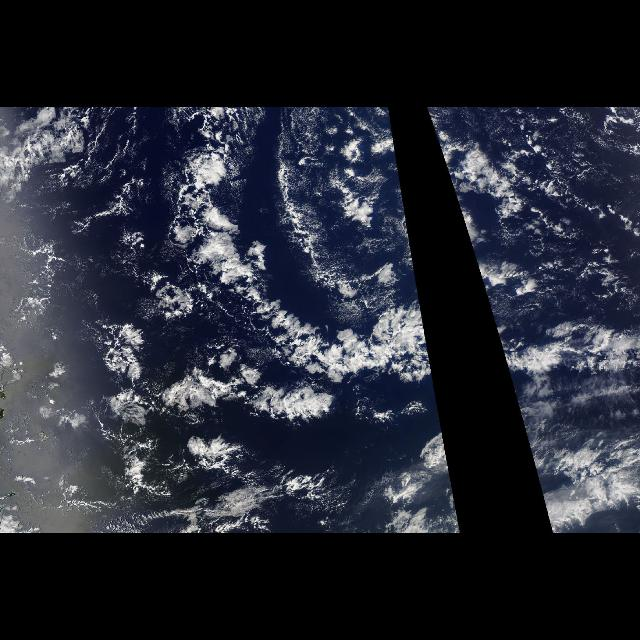Fish: (158, 107, 436, 387)
Flower: (28, 177, 374, 481)
Gravel: (520, 202, 626, 308)
Sugar: (280, 107, 346, 300)
